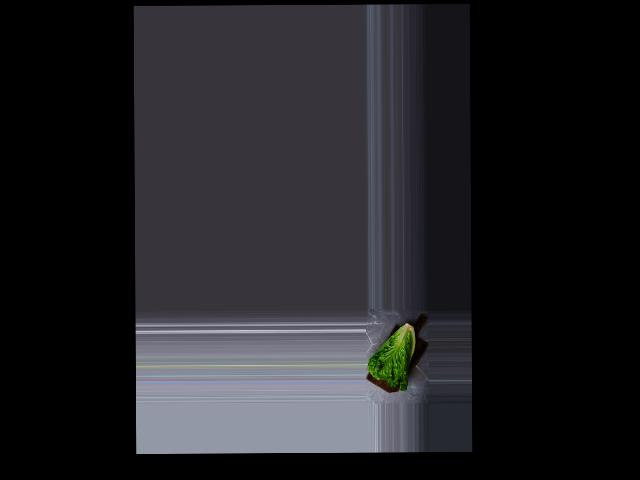lettuce: (367, 320, 423, 390)
